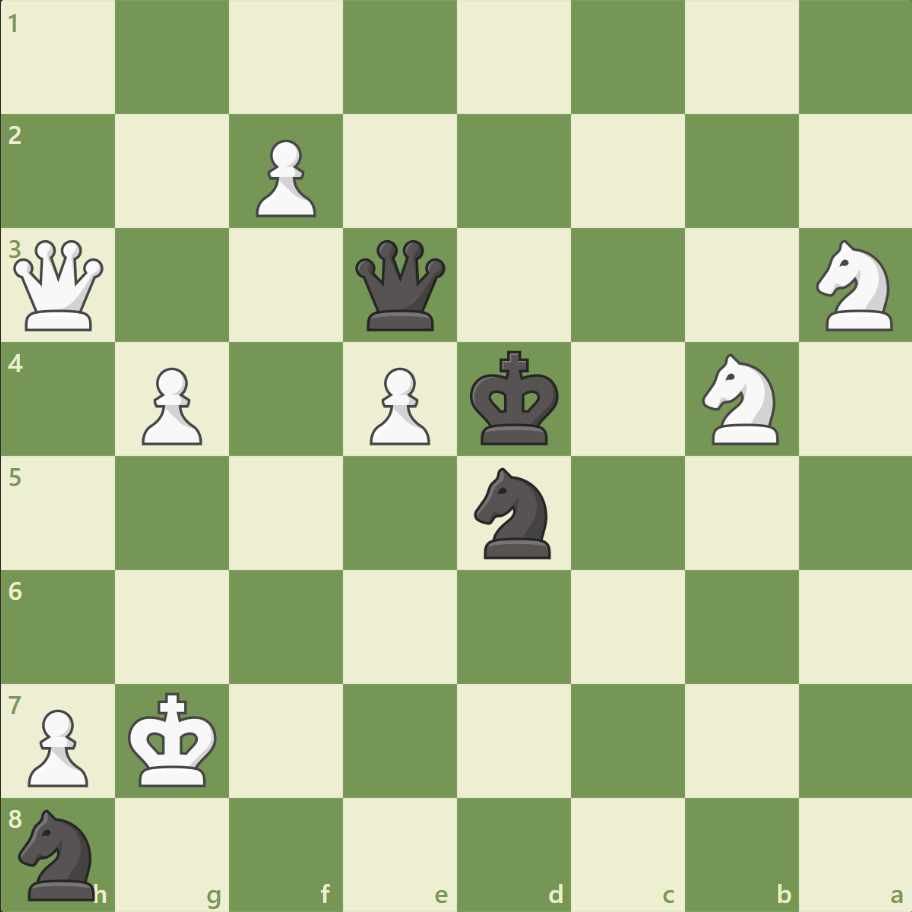K: (124, 685, 224, 793)
N: (806, 234, 903, 337), (692, 348, 789, 450)
P: (20, 700, 95, 791), (133, 359, 208, 450), (247, 132, 322, 223), (361, 359, 435, 450)
Q: (10, 236, 109, 335)
k: (465, 344, 565, 452)
n: (465, 461, 562, 564), (11, 802, 108, 904)
q: (351, 236, 450, 335)
